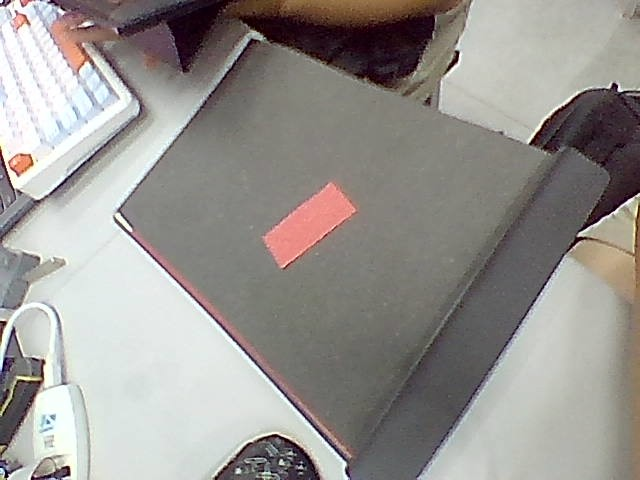card: (263, 183, 356, 268)
